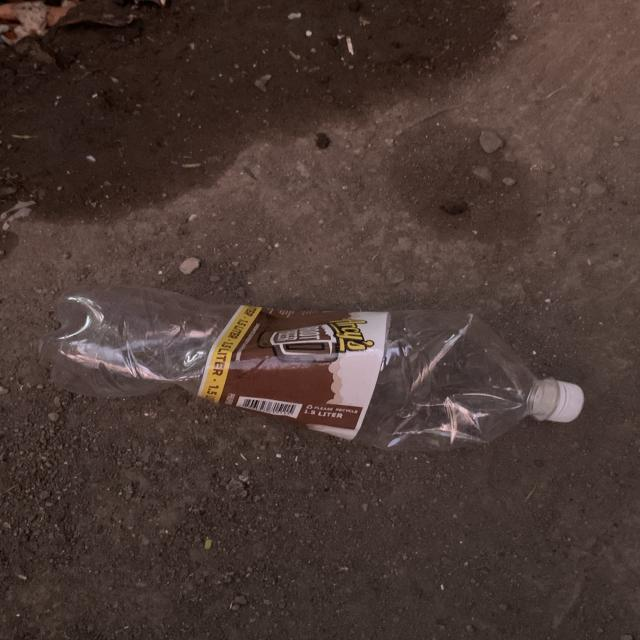Bottle: (40, 285, 584, 450)
